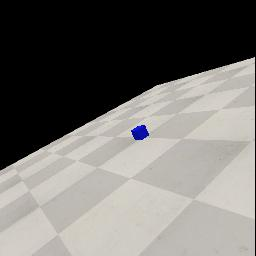box: (131, 125, 149, 140)
